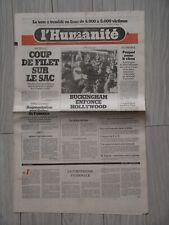paper: (14, 12, 148, 214)
